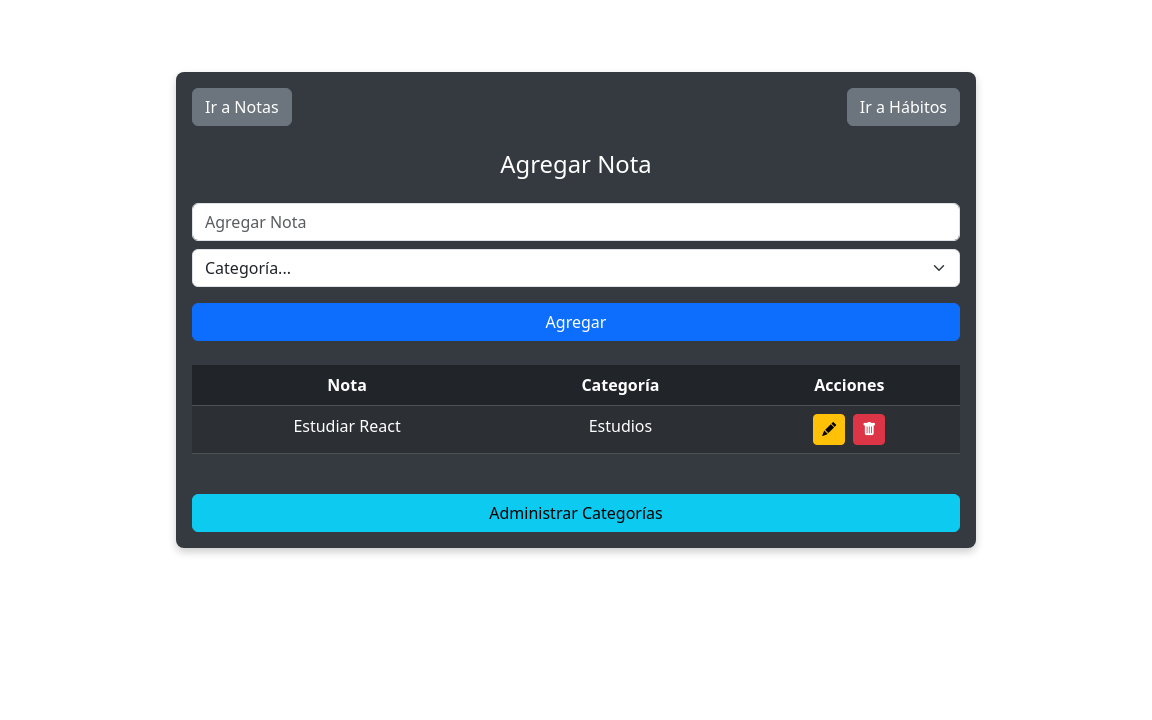
it: Notas component › permite abrir el modal de categorías
Click the button "Administrar Categorías".
click(576, 513)  # box [192,494,960,532]
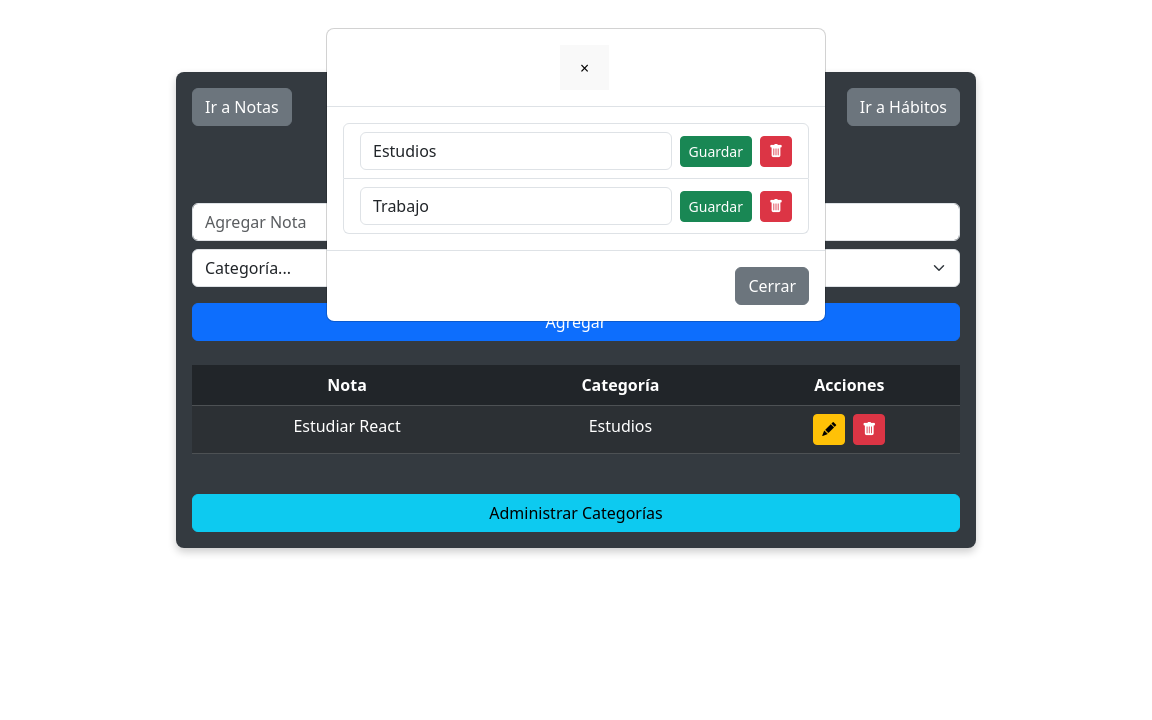
Now the dialog is shown, box [326,28,826,322]
